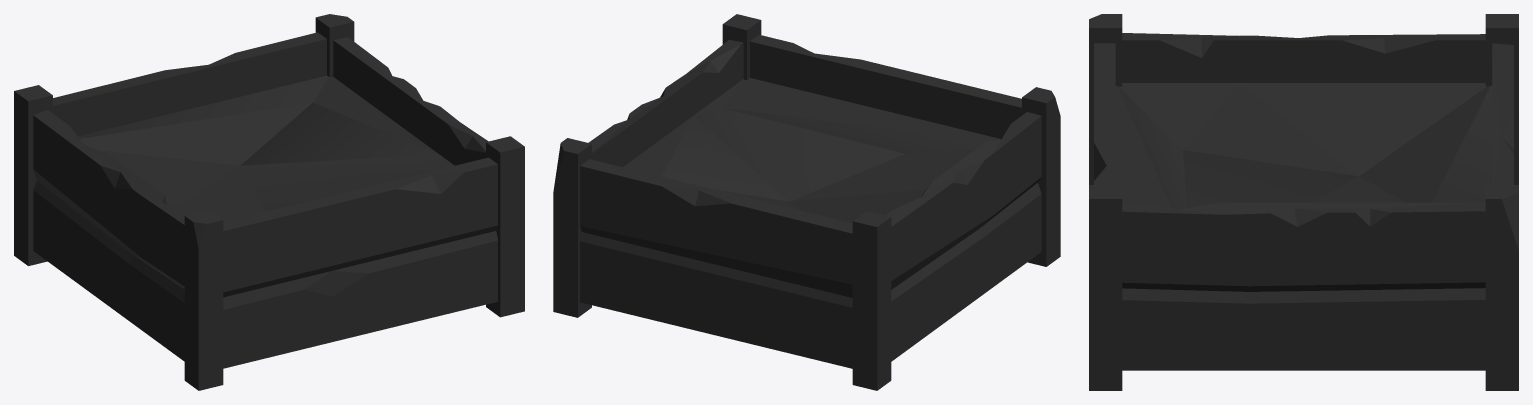
File: Plant_Box 1.FBX
3 renders of one model, left to right at view 1: azimuth 30°, elevation 25°; view 2: azimuth 150°, elevation 25°; view 3: azimuth 270°, elevation 25°, orthographic. The views are drawn at different scales.
Visible parts, largest first — view 1: Plant_Box; view 2: Plant_Box; view 3: Plant_Box.
Boxes of the visible parts, left/top/right/bottom form: Plant_Box: left=14, top=14, right=524, bottom=390; Plant_Box: left=553, top=14, right=1060, bottom=390; Plant_Box: left=1089, top=14, right=1518, bottom=390.
Bounding box in the file's own units: 58.28 × 28.16 × 57.16.
